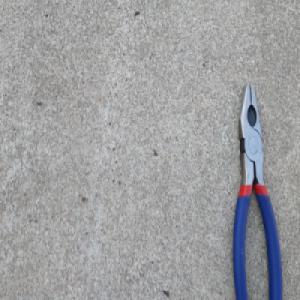Pliers: (231, 80, 283, 300)
